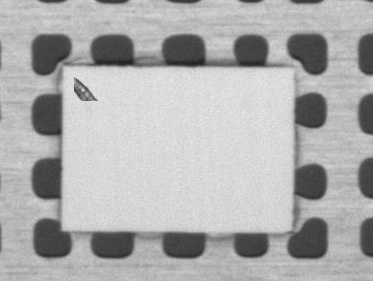DIE_INK: (98, 57, 133, 76)
